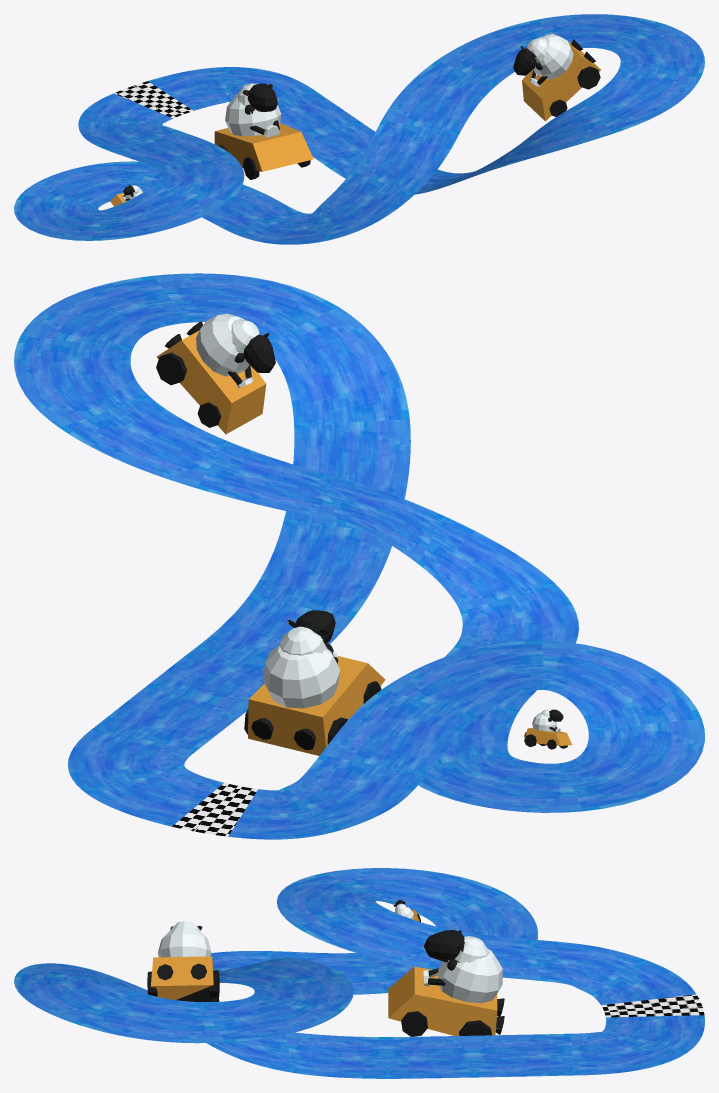
Rendered from ShermieRoad.glb.
The picture shows the model from 3 angles, top to bottom: view 1: azimuth 30°, elevation 25°; view 2: azimuth 150°, elevation 25°; view 3: azimuth 270°, elevation 25°; orthographic projection. The views are drawn at different scales.
Visible parts, largest first — view 1: track, Shermie, Shermie.002; view 2: track, Shermie, Shermie.002, Shermie.001; view 3: track, Shermie, Shermie.002.
Boxes of the visible parts, box(x1,y1,x2,y2) form: track: box(14, 14, 704, 244); Shermie: box(214, 83, 313, 179); Shermie.002: box(513, 34, 600, 121); track: box(14, 273, 704, 839); Shermie: box(244, 610, 385, 755); Shermie.002: box(156, 313, 275, 434); Shermie.001: box(524, 709, 572, 749); track: box(14, 868, 704, 1078); Shermie: box(388, 930, 504, 1036); Shermie.002: box(147, 921, 219, 1001).
Bounding box in the file's own units: 154 × 46.22 × 139.
11 materials, 2 textured.
